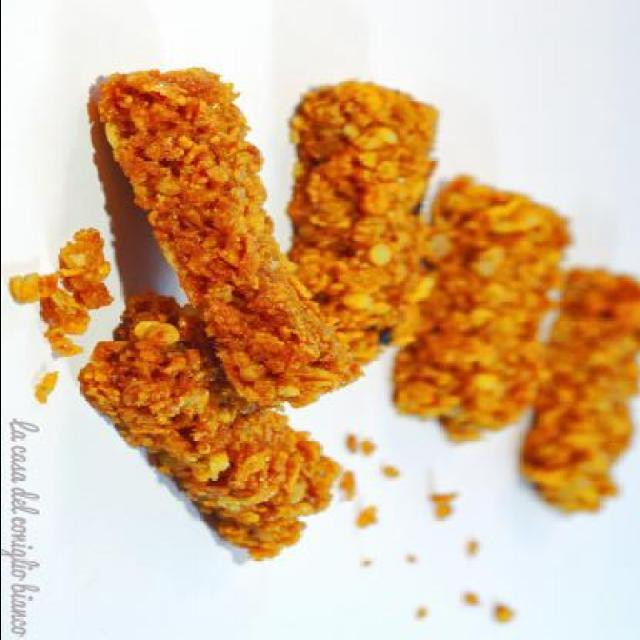Cereal bar packaged: (100, 57, 354, 401), (92, 300, 340, 568), (274, 70, 443, 407)
